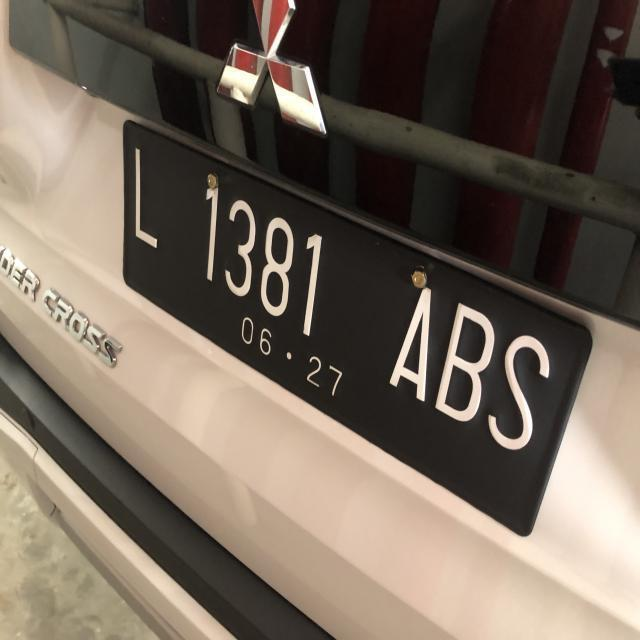1: (304, 223, 328, 342), (202, 174, 218, 290)
3: (224, 194, 254, 300)
8: (262, 202, 294, 328)
A: (394, 274, 429, 406)
B: (434, 295, 494, 438)
L: (130, 145, 158, 253)
S: (494, 317, 552, 459)
